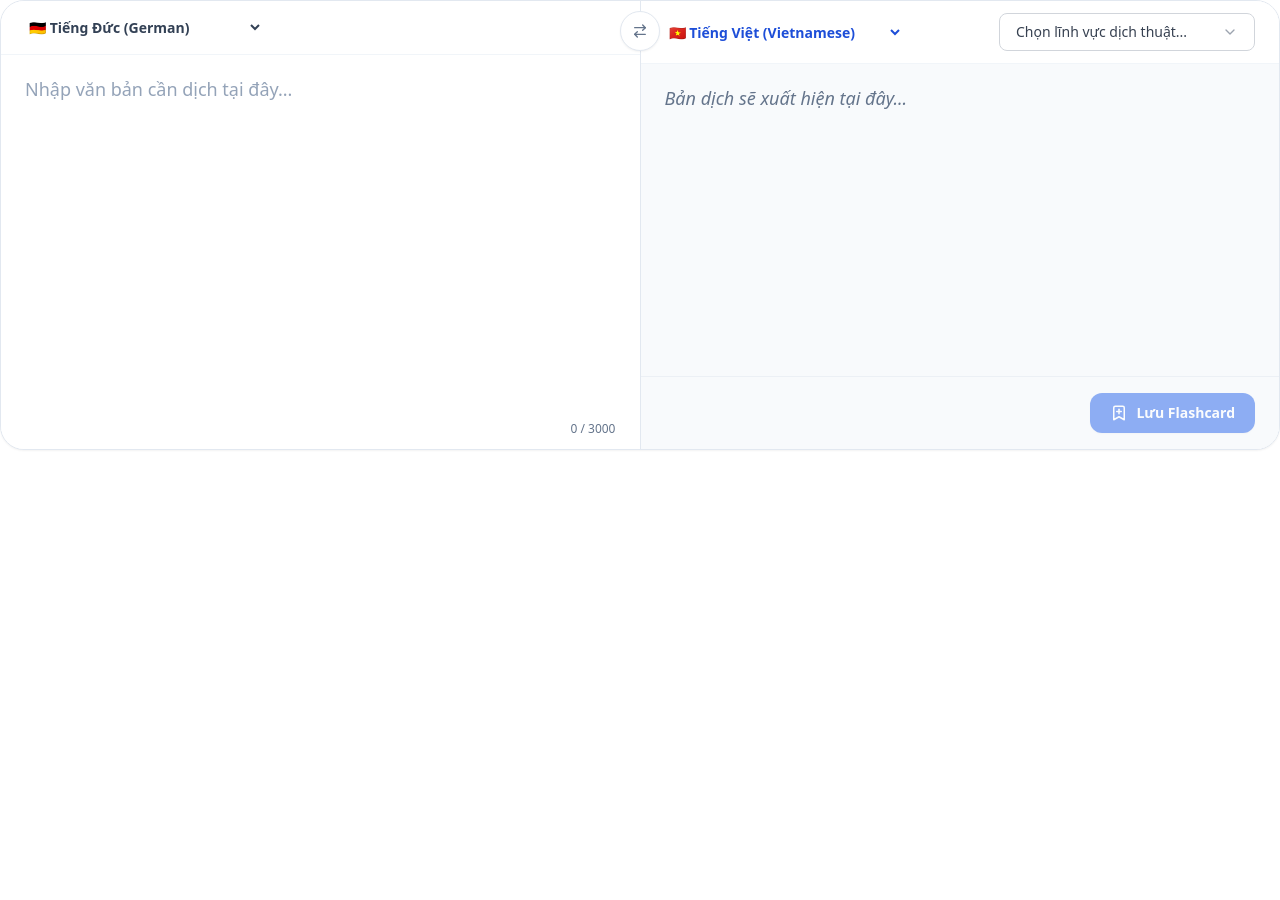
TranslationBox -> Lưu Flashcard: xác định ngôn ngữ thẻ › nguồn chọn tay = Đức: Guten Morgen -> Chào buổi sáng vào bộ sưu tập tiếng Đức
This screenshot has width=1280, height=900.
Type "Guten Morgen" into the text box with placeholder "Nhập văn bản cần dịch tại đây..." at point(320, 232), box 1,55 -> 640,409
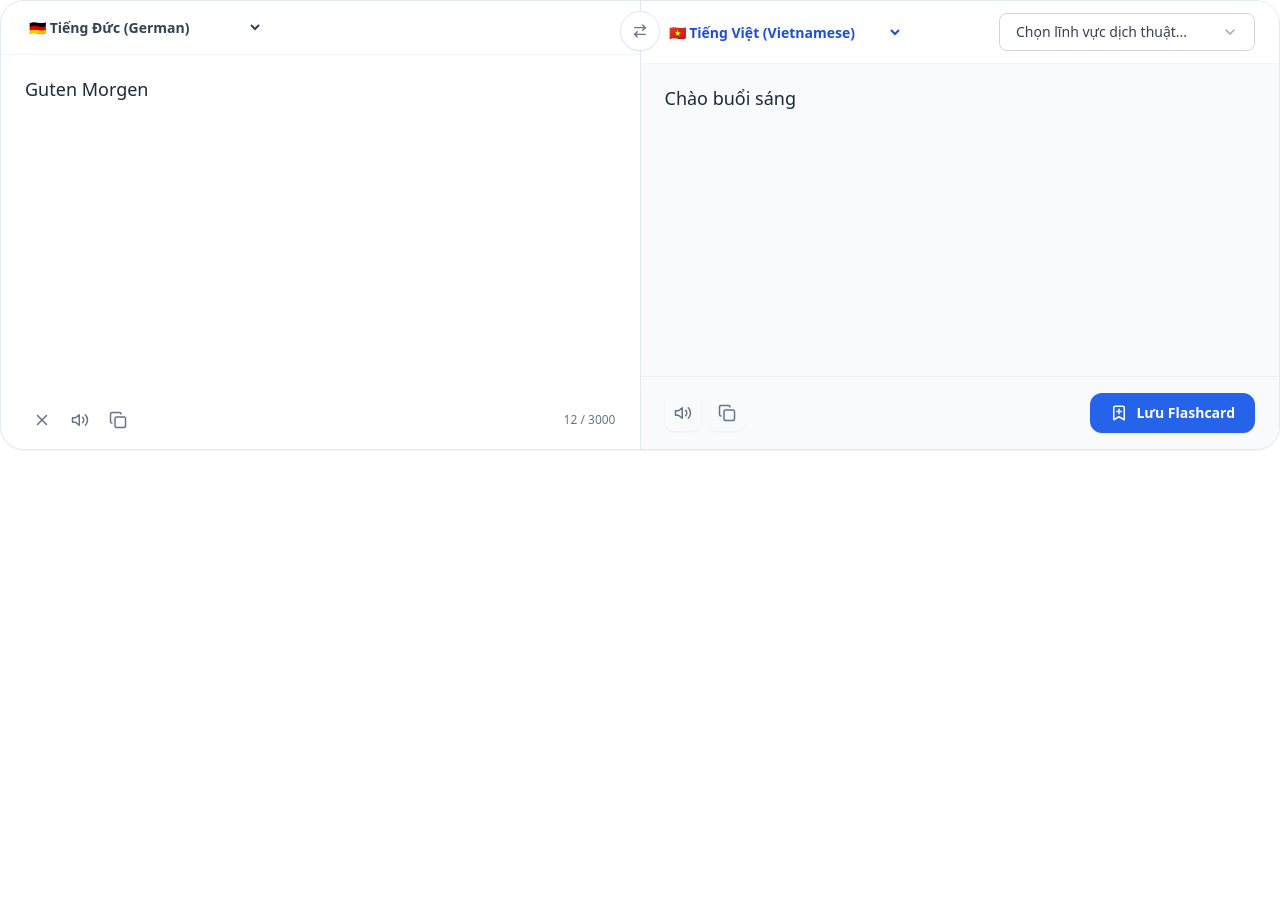
Click the button "Lưu Flashcard" at point(1173, 413), box 1090,393 -> 1255,433
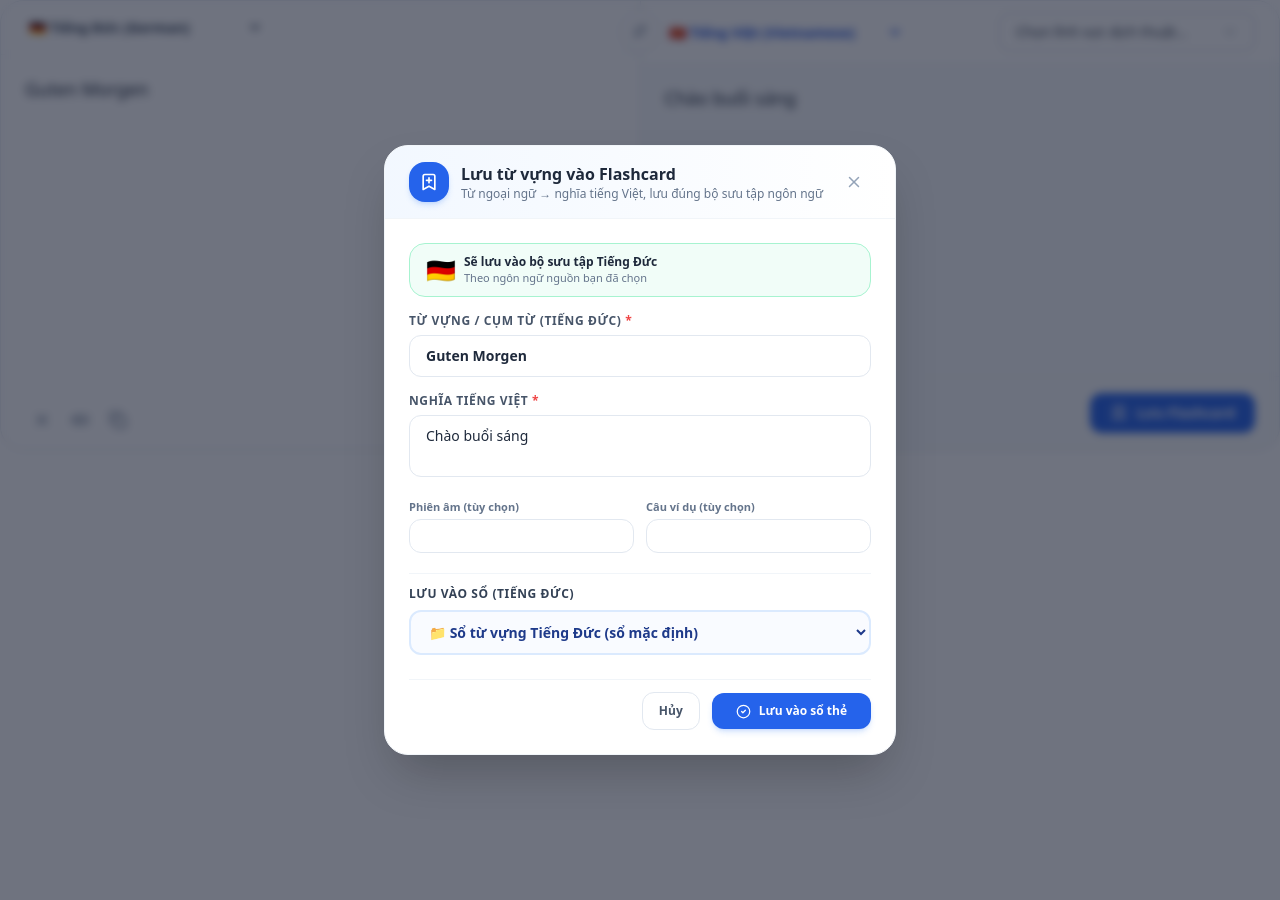
Expected: the text with test id "draft-language" shows "Tiếng Đức", 597,253 -> 657,270
Expected: the field showing "Guten Morgen" is shown, 409,335 -> 871,377
Expected: the text box showing "Chào buổi sáng" is shown, 409,415 -> 871,477
